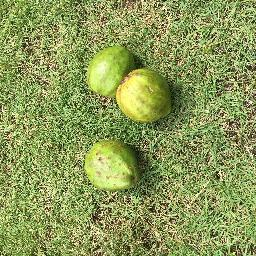Good_guava: (84, 137, 146, 192), (114, 65, 170, 123), (87, 43, 129, 93)
